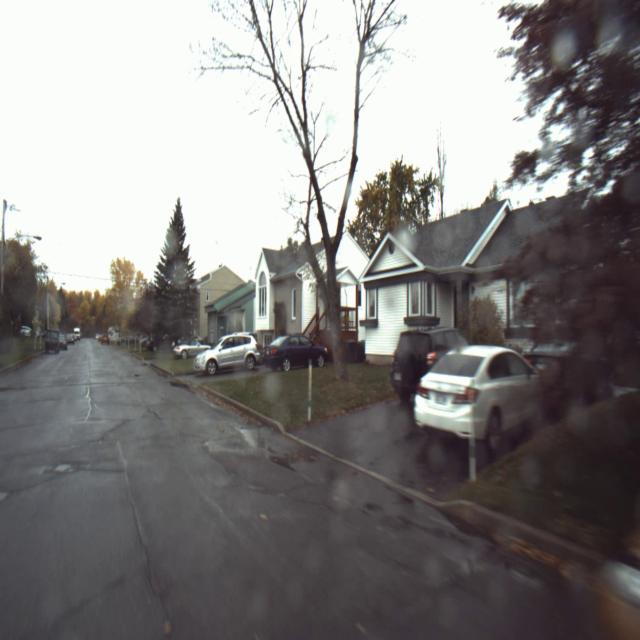car: (418, 332, 548, 465)
